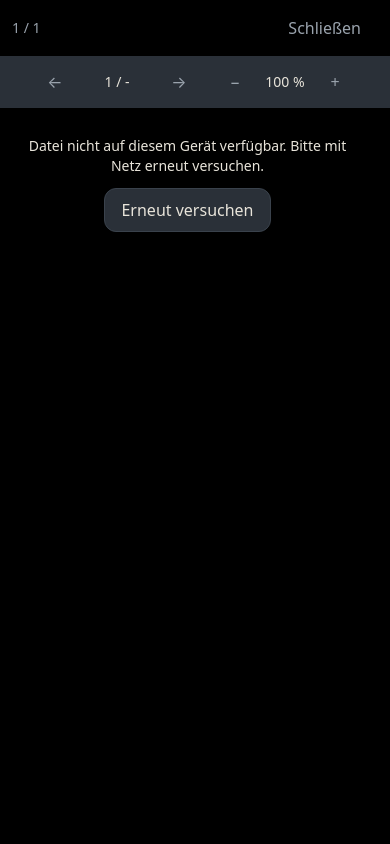
Test: receipt lightbox › shows an unavailable offline file and allows retrying
expect the message shows "Datei nicht auf diesem Gerät verfügbar": met, box [29,136,346,175]
Click the button "Erneut versuchen". click: [188, 210]
box: [104,188,270,232]
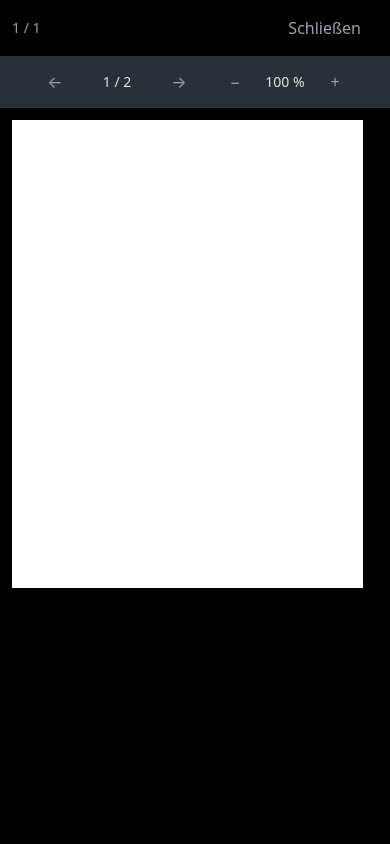
expect the drawing named "PDF-Seite 1" is shown: met, box [12,120,363,588]
expect the message "Datei nicht auf diesem Gerät verfügbar. Bitte mit Netz erneut versuchen." is gone: met
